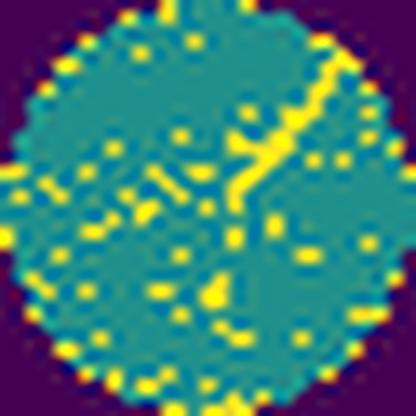Scratch: (222, 44, 362, 216)
